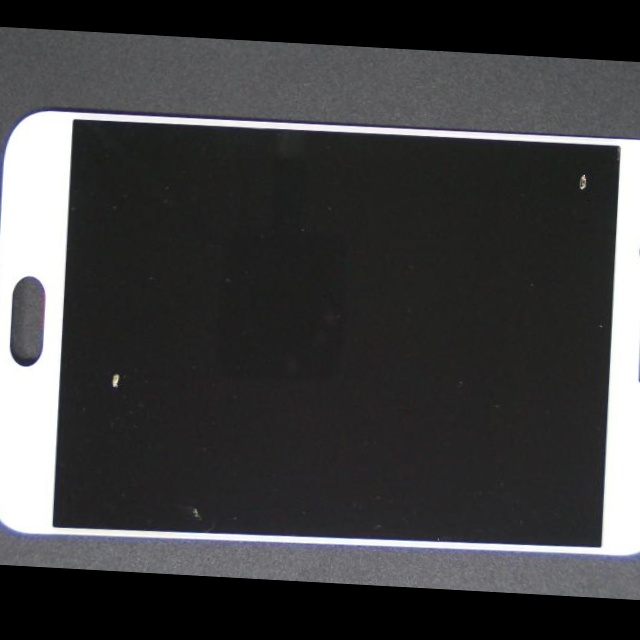stain: (247, 107, 640, 285), (13, 197, 194, 574)
